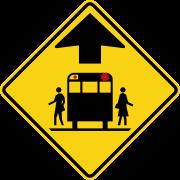School Ahead: (20, 16, 167, 155)
